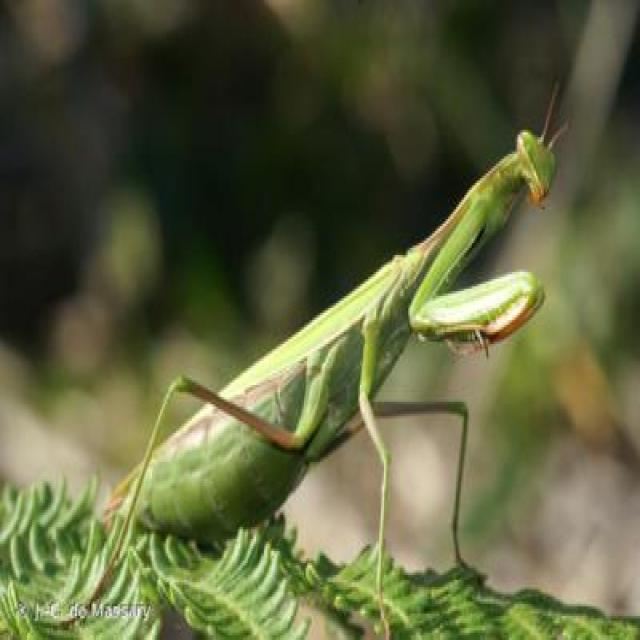antennae: (539, 82, 562, 141), (552, 122, 572, 145)
body: (138, 134, 554, 532)
insect: (68, 58, 576, 636)
legs: (86, 334, 342, 598), (364, 386, 489, 590), (406, 195, 544, 364), (360, 312, 391, 640)
mouthpart: (533, 178, 552, 214)
wings: (101, 266, 398, 515)
